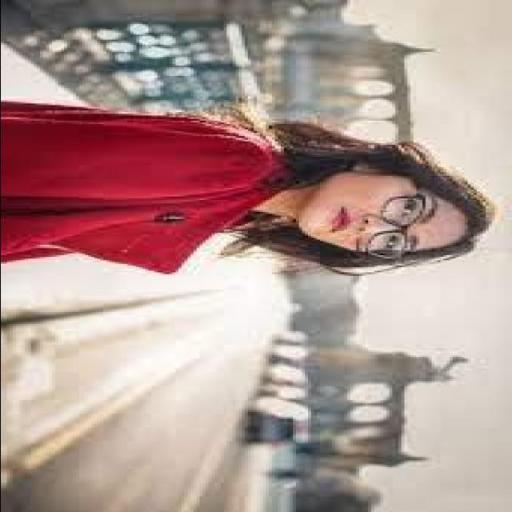glasses: (351, 185, 453, 272)
